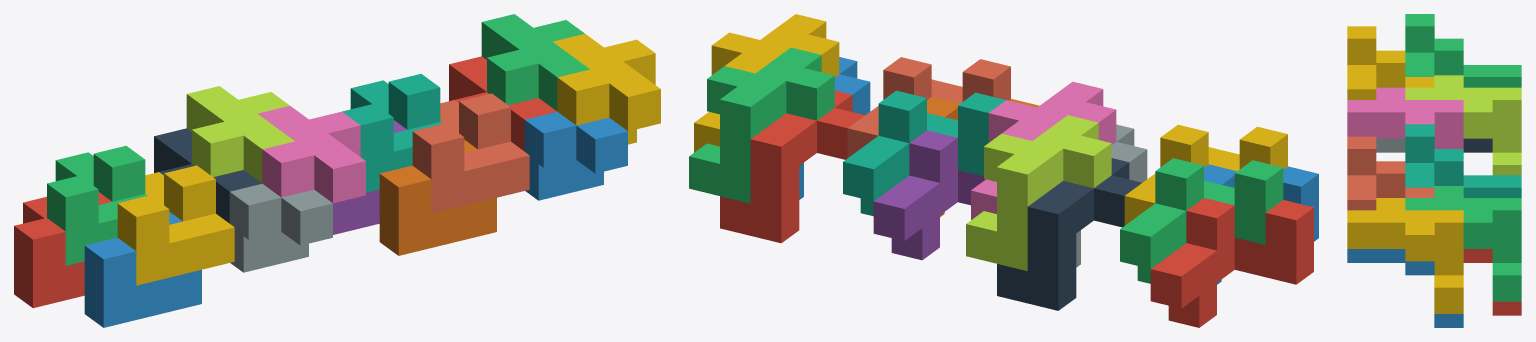
The model's file is tiling.obj.
3 views of the same model, side by side, from view 1: azimuth 30°, elevation 25°; view 2: azimuth 150°, elevation 25°; view 3: azimuth 270°, elevation 25° (orthographic). The views are drawn at different scales.
Parts seen in each view (by area): view 1: copy_1_domain_8, copy_1_domain_4, copy_2_domain_8, copy_2_domain_4, copy_1_domain_3, copy_2_domain_2, copy_2_domain_6, copy_2_domain_3, copy_2_domain_7, copy_1_domain_6, copy_1_domain_2, copy_1_domain_7 (+4 smaller); view 2: copy_1_domain_1, copy_2_domain_7, copy_2_domain_3, copy_2_domain_5, copy_2_domain_1, copy_1_domain_3, copy_1_domain_7, copy_1_domain_5, copy_2_domain_8, copy_2_domain_4, copy_1_domain_4, copy_1_domain_8 (+4 smaller); view 3: copy_2_domain_8, copy_2_domain_7, copy_2_domain_3, copy_2_domain_4, copy_1_domain_7, copy_1_domain_3, copy_1_domain_4, copy_1_domain_8, copy_2_domain_6, copy_2_domain_5, copy_2_domain_1, copy_2_domain_2.
Part boxes in pixels (x1,y1,x2,y2): copy_1_domain_8: [412, 93, 529, 213]; copy_1_domain_4: [117, 165, 234, 285]; copy_2_domain_8: [553, 34, 660, 144]; copy_2_domain_4: [258, 106, 365, 203]; copy_1_domain_3: [47, 146, 147, 265]; copy_2_domain_2: [229, 183, 332, 272]; copy_2_domain_6: [524, 111, 627, 200]; copy_2_domain_3: [186, 86, 294, 182]; copy_2_domain_7: [481, 14, 589, 110]; copy_1_domain_6: [379, 140, 496, 255]; copy_1_domain_2: [84, 212, 201, 327]; copy_1_domain_7: [342, 74, 442, 192]; copy_1_domain_1: [1150, 198, 1313, 327]; copy_2_domain_7: [689, 47, 834, 203]; copy_2_domain_3: [966, 115, 1111, 270]; copy_2_domain_5: [720, 90, 864, 243]; copy_2_domain_1: [997, 158, 1141, 310]; copy_1_domain_3: [1120, 158, 1283, 283]; copy_1_domain_7: [843, 90, 1005, 216]; copy_1_domain_5: [873, 130, 985, 260]; copy_2_domain_8: [694, 14, 839, 152]; copy_2_domain_4: [971, 81, 1116, 219]; copy_1_domain_4: [1124, 124, 1287, 225]; copy_1_domain_8: [847, 57, 1010, 157]; copy_2_domain_8: [1347, 198, 1463, 313]; copy_2_domain_7: [1405, 186, 1521, 301]; copy_2_domain_3: [1405, 75, 1521, 175]; copy_2_domain_4: [1347, 87, 1463, 148]; copy_1_domain_7: [1405, 124, 1521, 197]; copy_1_domain_3: [1405, 14, 1521, 87]; copy_1_domain_4: [1347, 26, 1434, 99]; copy_1_domain_8: [1347, 136, 1434, 210]; copy_2_domain_6: [1347, 249, 1463, 327]; copy_2_domain_5: [1463, 249, 1521, 315]; copy_2_domain_1: [1463, 138, 1492, 152]; copy_2_domain_2: [1376, 138, 1405, 152].
Size of the model in its own units: 19 by 4 by 6.
